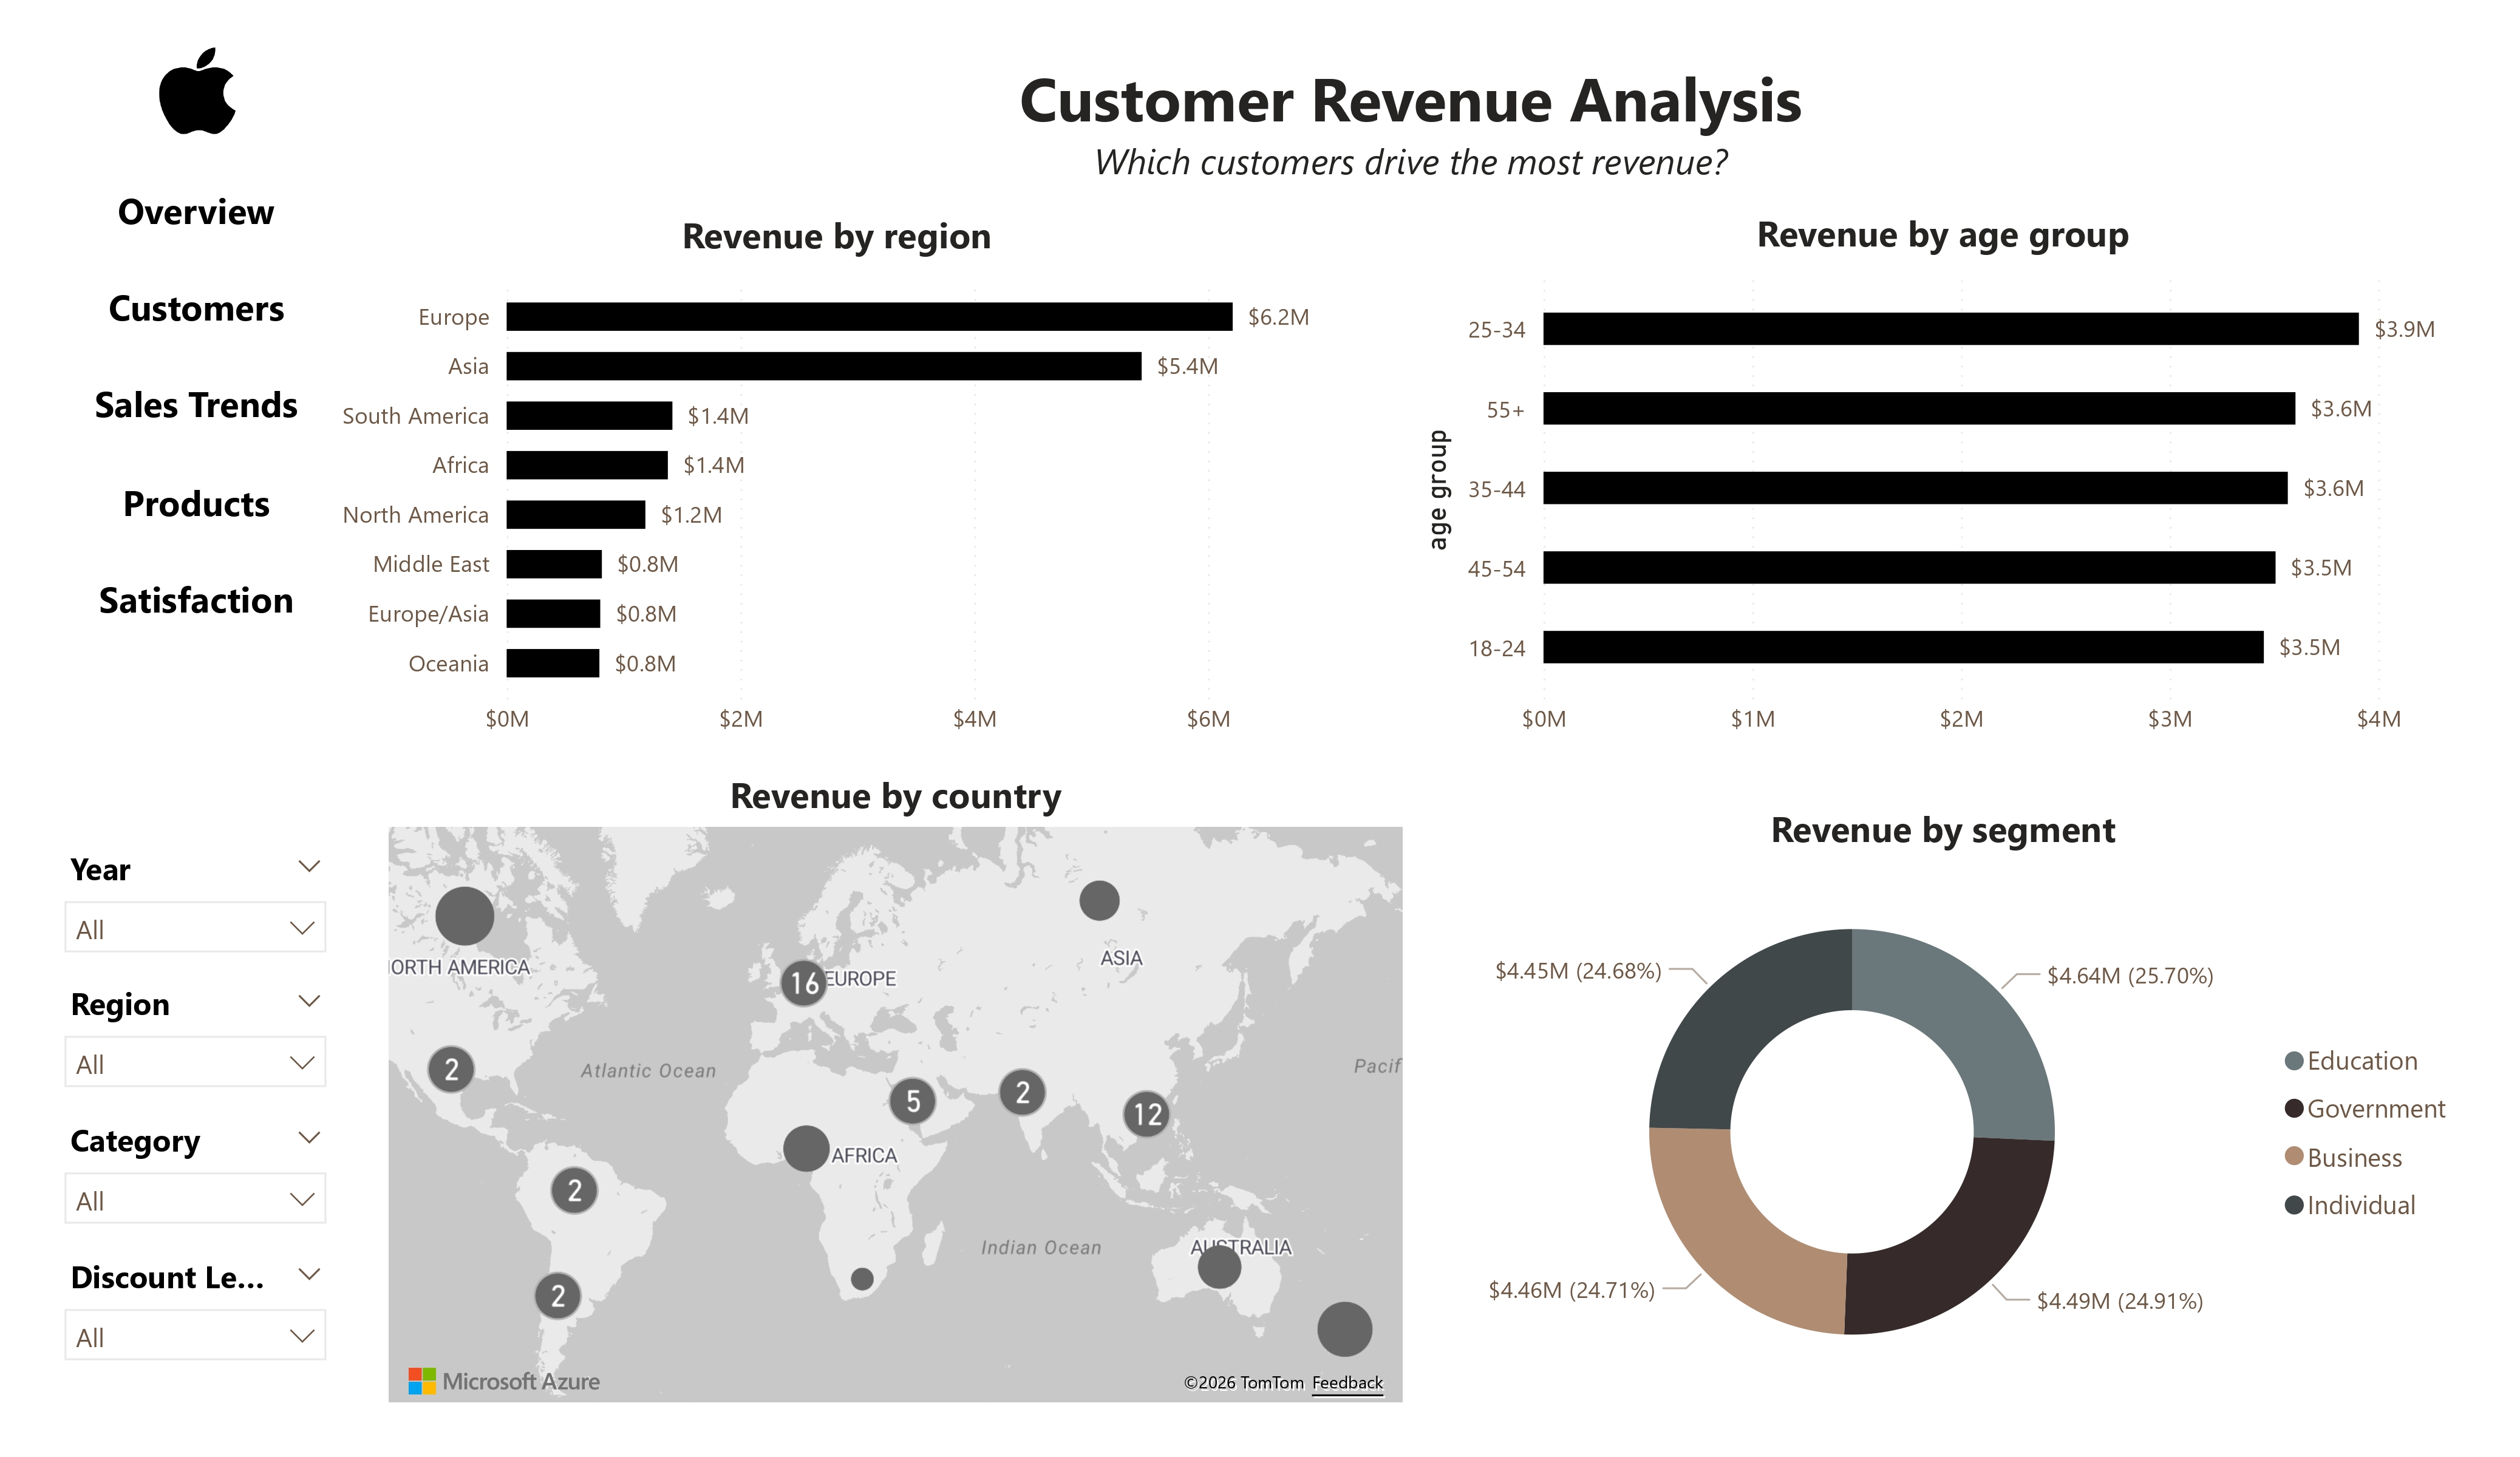

The page's visual inventory and layout, read from the dashboard file:
{"tool":"powerbi","page":{"name":"Customers","canvas":[1280,720],"ordinal":1},"visuals":[{"type":"textbox","box":[158.9,0,1121.5,86.8],"z":0},{"type":"slicer","fields":{"Values":["public sales.year"]},"box":[0,417.9,158.5,70.8],"z":1000},{"type":"image","box":[40.6,0,77.8,51.8],"z":2000},{"type":"slicer","fields":{"Values":["public customers.region"]},"box":[0,488.7,158.5,72],"z":3000},{"type":"slicer","fields":{"Values":["public products.category"]},"box":[0,560.8,158.5,72],"z":4000},{"type":"slicer","fields":{"Values":["public sales.discount_level"]},"box":[0,632.8,158.5,72],"z":5000},{"type":"actionButton","box":[0,60.9,158.9,51.8],"z":6000},{"type":"actionButton","box":[0,112.7,158.9,50.7],"z":7000},{"type":"actionButton","box":[0,163.4,158.9,51.8],"z":8000},{"type":"actionButton","box":[0,215.3,158.9,50.7],"z":9000},{"type":"actionButton","box":[0,266,158.9,51.8],"z":10000},{"type":"azureMap","title":"Revenue by country","fields":{"Category":["Customers.country"],"Size":["Sum(Sales.revenue_usd)"]},"box":[176.1,381.5,544.2,338.7],"z":11000},{"type":"barChart","fields":{"Category":["Customers.region"],"Y":["Sum(Sales.revenue_usd)"]},"box":[144.3,86.8,545.4,286.1],"z":12000},{"type":"barChart","fields":{"Category":["Customers.customer_age_group"],"Y":["Sum(Sales.revenue_usd)"]},"box":[720.2,85.6,560.1,287.4],"z":13000},{"type":"donutChart","fields":{"Category":["Customers.customer_segment"],"Y":["Sum(Sales.revenue_usd)"]},"box":[720.2,399.9,560.1,320.4],"z":14000}]}

Visuals, with their boxes on the page's 1280x720 design canvas (x1, y1, x2, y2). These are canvas units, not pixel positions in the 2520x1457 screenshot, which may show the page scaled, cropped or inside an application window:
textbox: x1=159, y1=0, x2=1280, y2=87
slicer - public sales.year: x1=0, y1=418, x2=158, y2=489
image: x1=41, y1=0, x2=118, y2=52
slicer - public customers.region: x1=0, y1=489, x2=158, y2=561
slicer - public products.category: x1=0, y1=561, x2=158, y2=633
slicer - public sales.discount_level: x1=0, y1=633, x2=158, y2=705
actionButton: x1=0, y1=61, x2=159, y2=113
actionButton: x1=0, y1=113, x2=159, y2=163
actionButton: x1=0, y1=163, x2=159, y2=215
actionButton: x1=0, y1=215, x2=159, y2=266
actionButton: x1=0, y1=266, x2=159, y2=318
"Revenue by country" azureMap: x1=176, y1=382, x2=720, y2=720
barChart - Customers.region x Sum(Sales.revenue_usd): x1=144, y1=87, x2=690, y2=373
barChart - Customers.customer_age_group x Sum(Sales.revenue_usd): x1=720, y1=86, x2=1280, y2=373
donutChart - Customers.customer_segment x Sum(Sales.revenue_usd): x1=720, y1=400, x2=1280, y2=720
